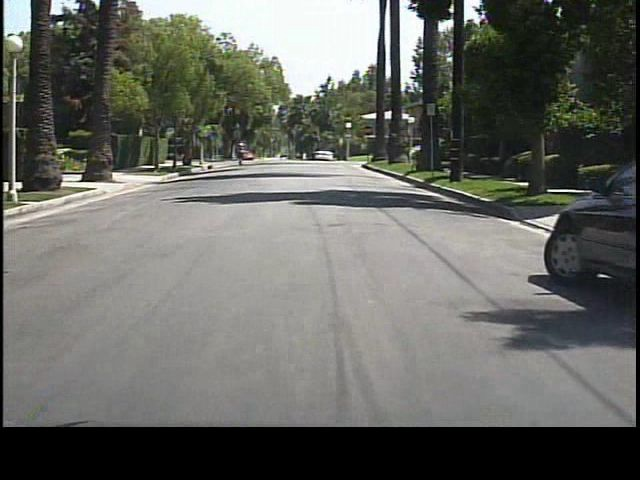person: (234, 136, 249, 167)
